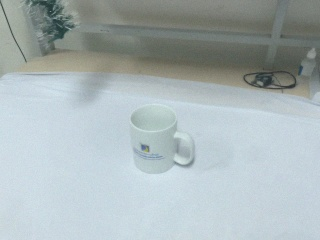bottle: (297, 47, 315, 82)
cup: (128, 103, 196, 175)
